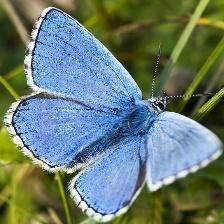butterfly: (4, 7, 224, 224)
